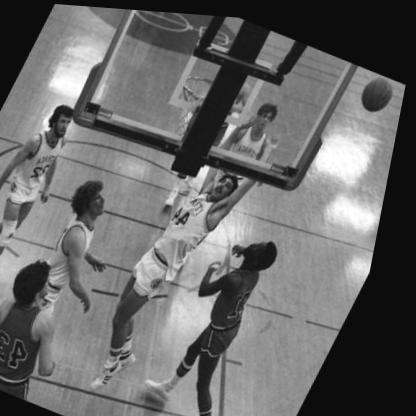basketball: (357, 65, 403, 111)
rim: (175, 64, 218, 101)
